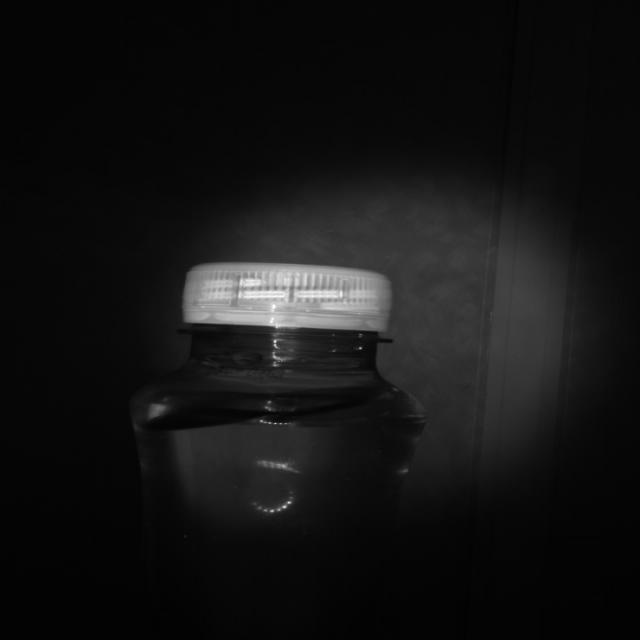Good: (187, 261, 393, 333)
